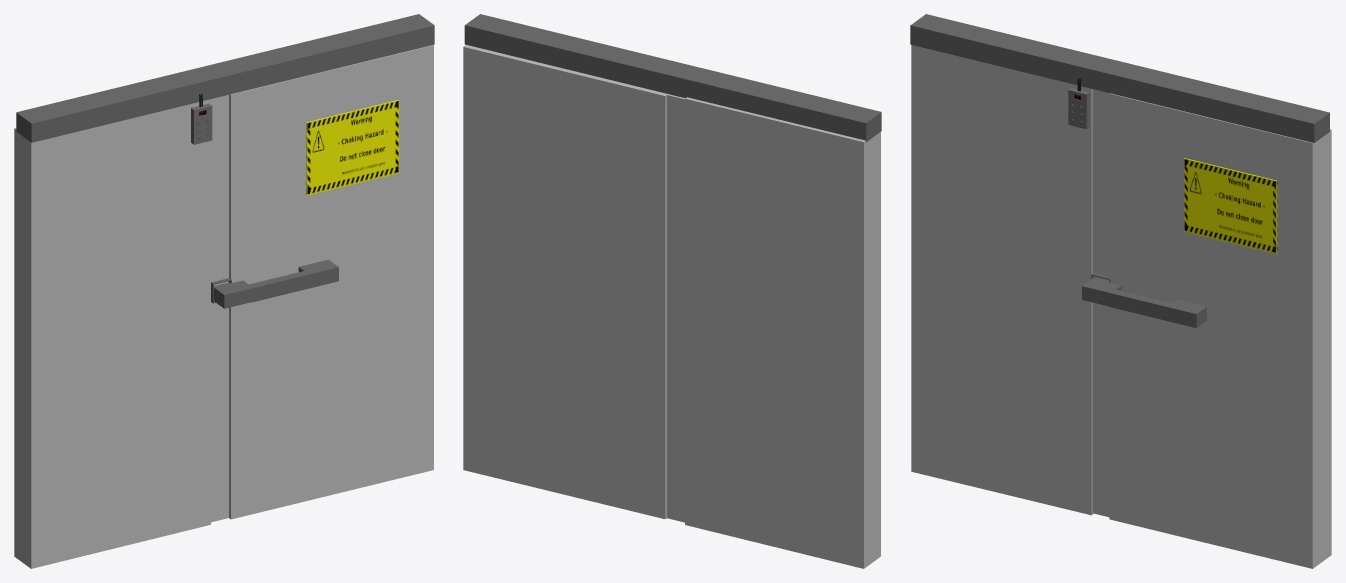
The model's file is Kühlraumtür.fbx.
The picture shows the model from 3 angles, left to right: view 1: azimuth 30°, elevation 25°; view 2: azimuth 150°, elevation 25°; view 3: azimuth 330°, elevation 25°; orthographic projection.
Visible parts, largest first — view 1: pCube25, pCube24, pCube30, pCube35, pCube28, pCube29, pCube33; view 2: pCube25, pCube24, pCube30; view 3: pCube24, pCube25, pCube30, pCube35, pCube28, pCube33, pCube29.
Boxes of the visible parts, <box> form: pCube25: <box>14,95,228,568</box>; pCube24: <box>229,45,433,519</box>; pCube30: <box>16,14,434,142</box>; pCube35: <box>306,100,399,195</box>; pCube28: <box>246,259,338,302</box>; pCube29: <box>214,280,250,308</box>; pCube33: <box>191,103,212,144</box>; pCube25: <box>662,93,880,568</box>; pCube24: <box>463,45,667,519</box>; pCube30: <box>464,14,881,142</box>; pCube24: <box>1109,93,1331,568</box>; pCube25: <box>911,45,1109,516</box>; pCube30: <box>910,14,1329,142</box>; pCube35: <box>1184,158,1277,254</box>; pCube28: <box>1108,289,1206,328</box>; pCube33: <box>1068,88,1089,129</box>; pCube29: <box>1082,278,1121,305</box>.
Bounding box in the file's own units: 9.93 × 10.49 × 1.24.
Materials: 7 (2 with a texture image).
